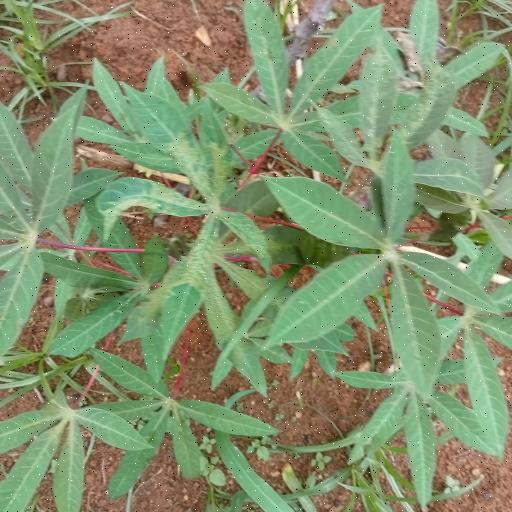Cassava_Mosaic: (266, 138, 494, 395), (97, 85, 272, 354), (0, 101, 82, 339), (0, 399, 151, 511)
